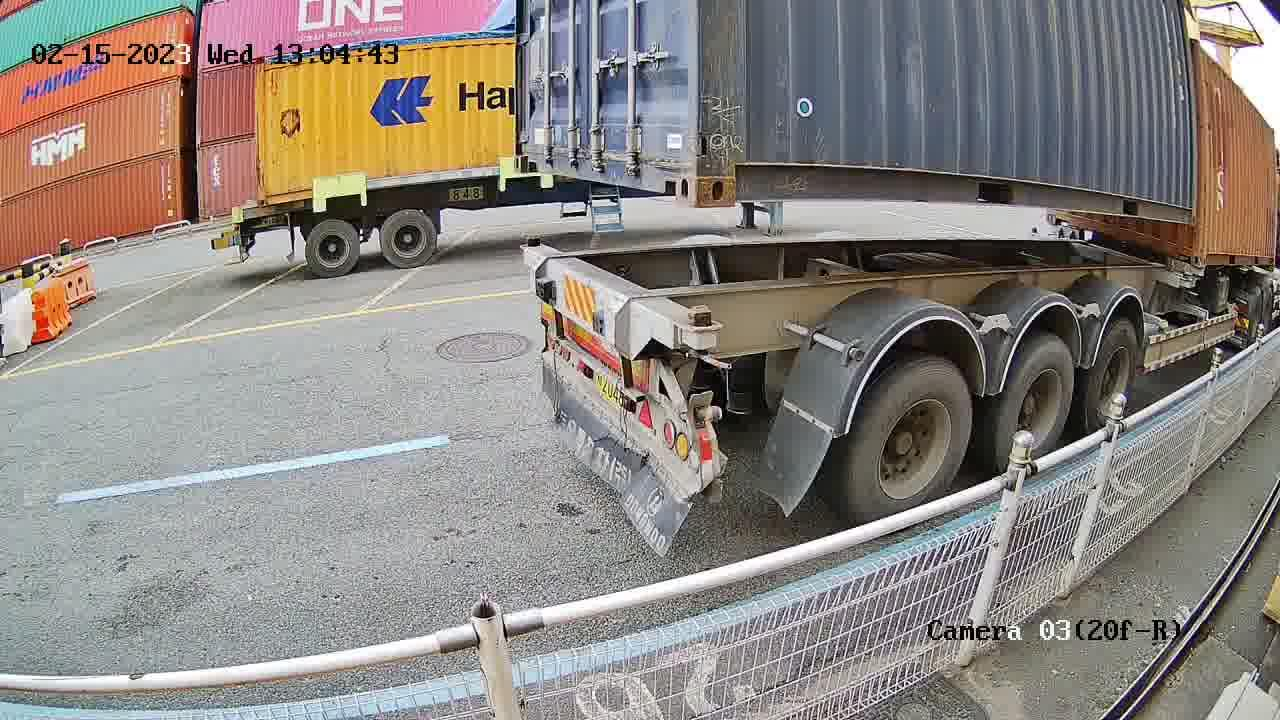Chassis: (521, 249, 695, 359)
Cone: (683, 305, 719, 353), (522, 231, 545, 261)
Hole_L: (692, 130, 779, 209), (513, 124, 550, 171)
Hole_R: (641, 128, 697, 206)
Tire: (846, 358, 973, 515), (997, 343, 1072, 465), (1086, 323, 1140, 432)
